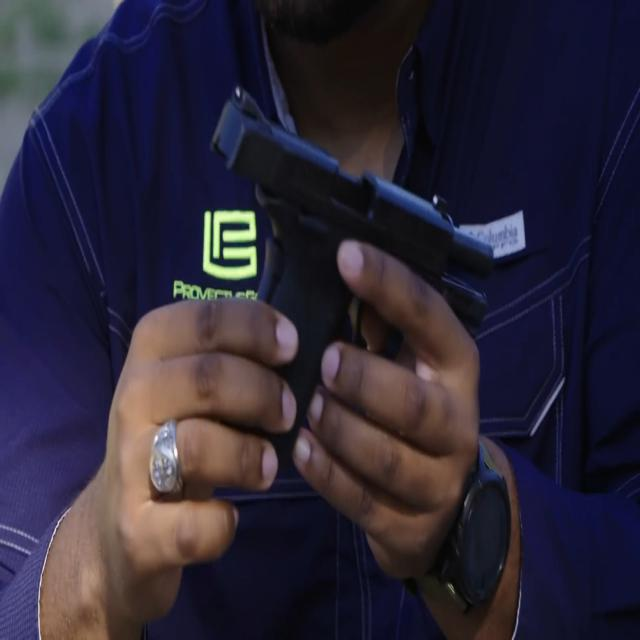handgun: (189, 117, 502, 444)
